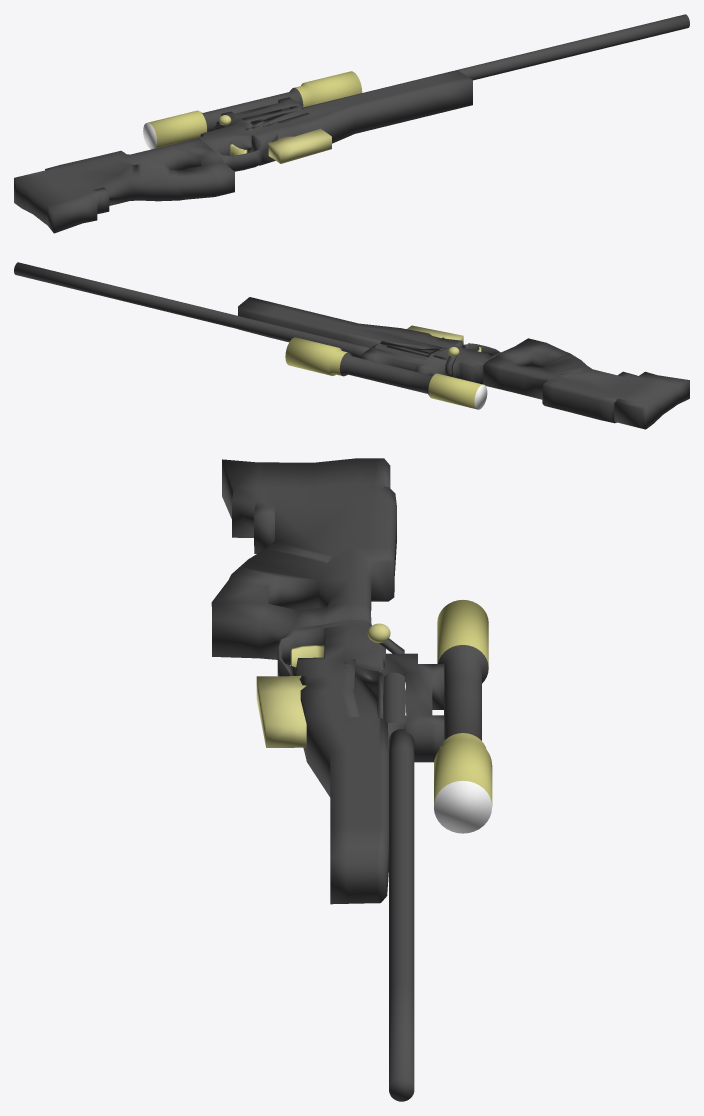
The model's file is AWP.fbx.
3 renders of one model, top to bottom at view 1: azimuth 30°, elevation 25°; view 2: azimuth 150°, elevation 25°; view 3: azimuth 270°, elevation 25°, orthographic. The views are drawn at different scales.
Visible parts, largest first — view 1: Cube; view 2: Cube; view 3: Cube.
Boxes of the visible parts, box(x1,y1,x2,y2) form: Cube: box(14, 14, 689, 233); Cube: box(14, 262, 689, 429); Cube: box(211, 458, 492, 1101).
Bounding box in the file's own units: 9.18 × 0.5032 × 1.77.
